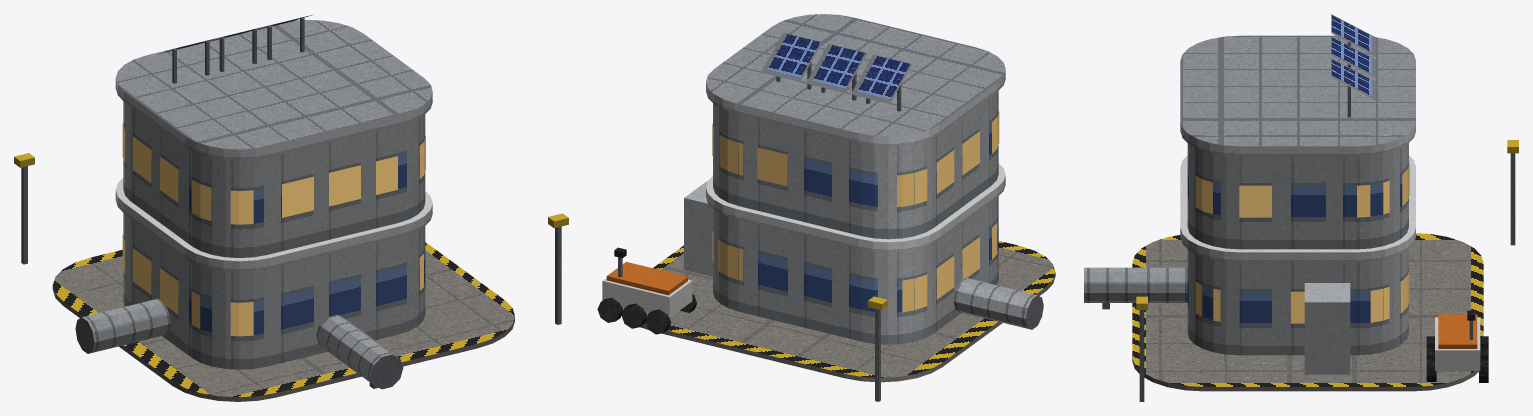
The model's file is mars_1_inhab_byty_a.glb.
3 renders of one model, left to right at view 1: azimuth 30°, elevation 25°; view 2: azimuth 150°, elevation 25°; view 3: azimuth 270°, elevation 25°, orthographic. The views are drawn at different scales.
Visible parts, largest first — view 1: inhab_byty_a, noc; view 2: inhab_byty_a, noc; view 3: inhab_byty_a, noc.
Part boxes in pixels (x1=…): inhab_byty_a: x1=14, y1=14, x2=568, y2=401; noc: x1=122, y1=123, x2=425, y2=336; inhab_byty_a: x1=597, y1=14, x2=1055, y2=401; noc: x1=712, y1=111, x2=999, y2=312; inhab_byty_a: x1=1084, y1=14, x2=1518, y2=401; noc: x1=1195, y1=164, x2=1409, y2=323.
Bounding box in the file's own units: 13.43 × 8.74 × 13.36.
1 material, 1 textured.
